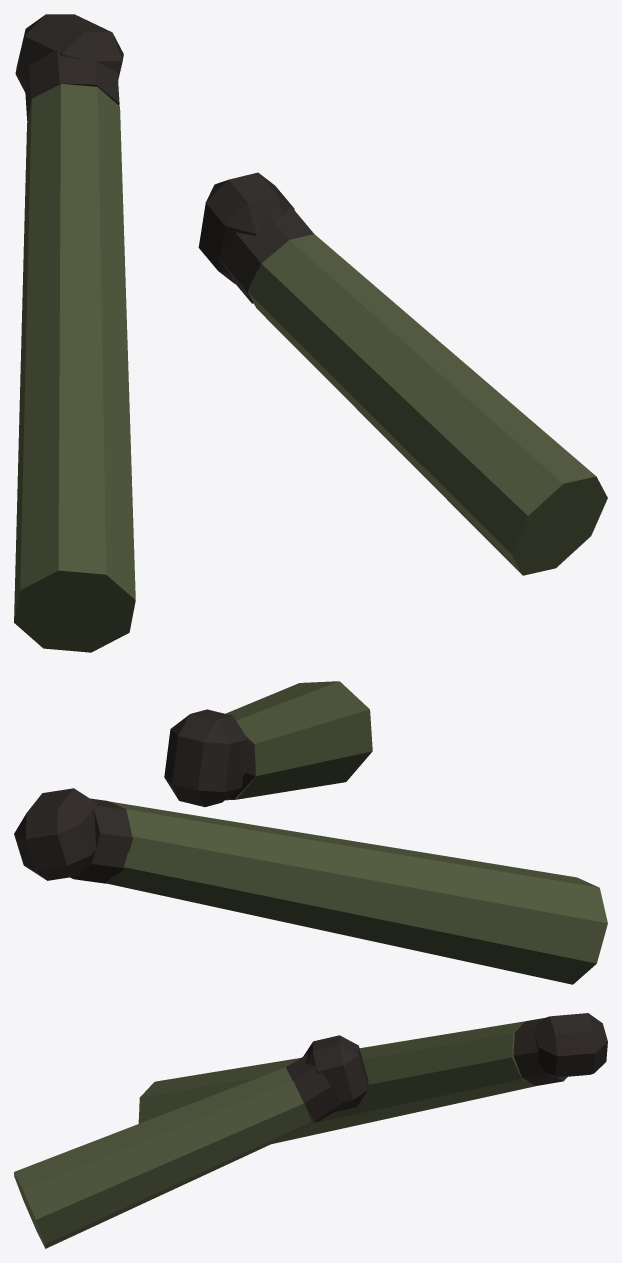
File: arms_t.glb
3 views of the same model, one above another, from view 1: azimuth 30°, elevation 25°; view 2: azimuth 150°, elevation 25°; view 3: azimuth 270°, elevation 25° (orthographic). The views are drawn at different scales.
Visible parts, largest first — view 1: VArmL, VArmR; view 2: VArmL, VArmR; view 3: VArmR, VArmL.
Part boxes in pixels (x1,y1,x2,y2): VArmL: (14,14,135,652); VArmR: (198,172,607,575); VArmL: (14,788,607,984); VArmR: (164,681,372,806); VArmR: (14,1035,368,1248); VArmL: (138,1013,607,1143).
Bounding box in the file's own units: 0.4898 × 0.338 × 0.7586.
